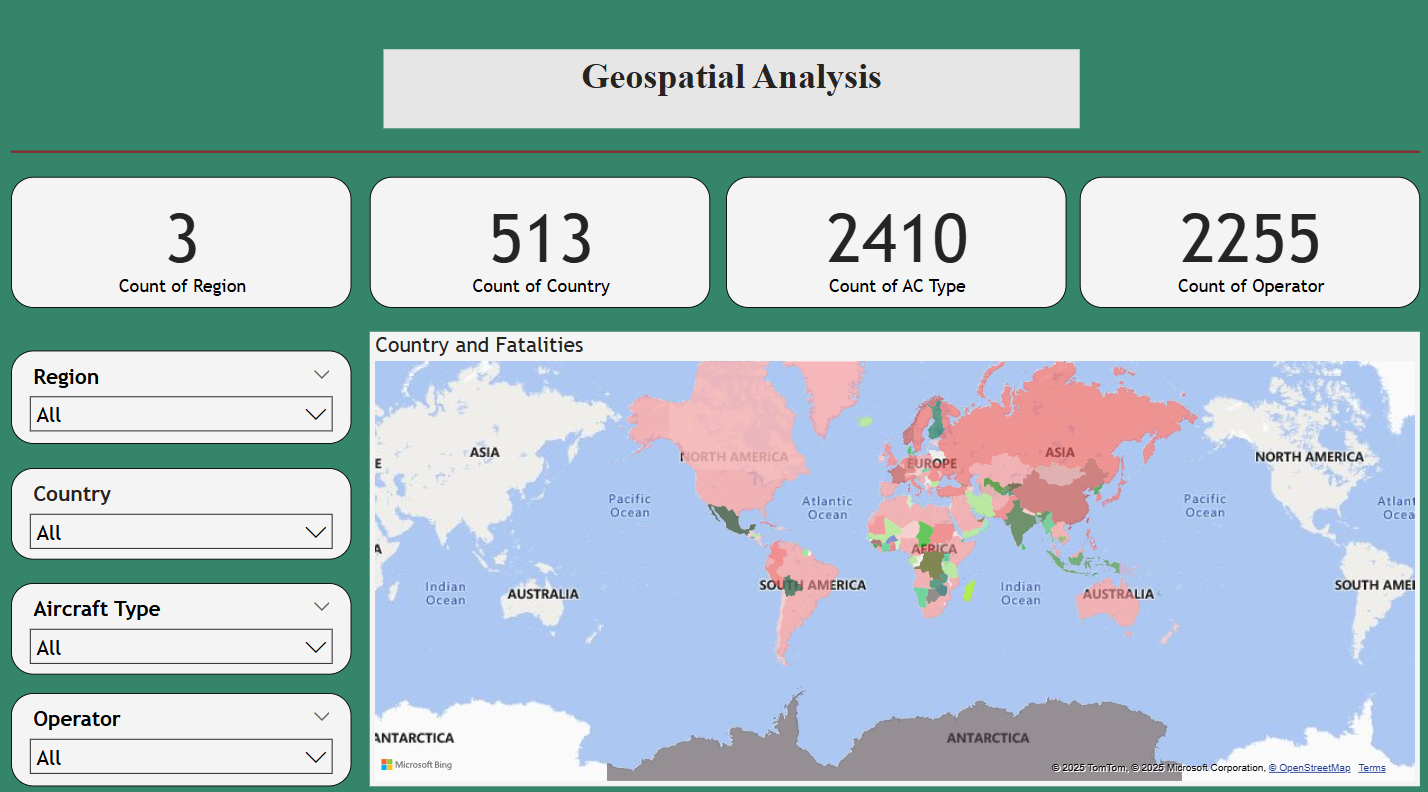

Layout of this report page (visuals, bound fields, positions):
{"tool":"powerbi","page":{"name":"Geospatial","canvas":[1280,720],"ordinal":1},"visuals":[{"type":"filledMap","fields":{"Category":["Sheet1.Country"],"Series":["Sheet1.Fatalities"]},"box":[333.3,301.7,935,405],"z":0},{"type":"slicer","fields":{"Values":["Sheet1.Operator"]},"box":[13.3,623.3,303.3,83.3],"z":1000},{"type":"slicer","fields":{"Values":["Sheet1.Country"]},"box":[13.3,423.3,303.3,81.7],"z":2000},{"type":"slicer","fields":{"Values":["Sheet1.Region"]},"box":[13.3,318.3,303.3,83.3],"z":3000},{"type":"slicer","fields":{"Values":["Sheet1.AC Type"]},"box":[13.3,525,303.3,81.7],"z":4000},{"type":"card","fields":{"Values":["Count(Sheet1.Region)"]},"box":[13.3,163.3,303.3,116.7],"z":5000},{"type":"card","fields":{"Values":["Count(Sheet1.Country)"]},"box":[333.3,163.3,303.3,116.7],"z":6000},{"type":"card","fields":{"Values":["Count(Sheet1.AC Type)"]},"box":[650,163.3,303.3,116.7],"z":7000},{"type":"card","fields":{"Values":["Count(Sheet1.Operator)"]},"box":[965,163.3,303.3,116.7],"z":8000},{"type":"shape","box":[13.3,135,1255,13.3],"z":9000},{"type":"textbox","box":[345,50,620,70],"z":10000}]}

Visuals, with their boxes in screenshot pixels (x1, y1, x2, y2), scaled from the page's 1280x720 canvas onto the 1428x792 screenshot:
filledMap - Sheet1.Country x Sheet1.Fatalities: (x1=372, y1=332, x2=1415, y2=777)
slicer - Sheet1.Operator: (x1=15, y1=686, x2=353, y2=777)
slicer - Sheet1.Country: (x1=15, y1=466, x2=353, y2=556)
slicer - Sheet1.Region: (x1=15, y1=350, x2=353, y2=442)
slicer - Sheet1.AC Type: (x1=15, y1=578, x2=353, y2=667)
card - Count(Sheet1.Region): (x1=15, y1=180, x2=353, y2=308)
card - Count(Sheet1.Country): (x1=372, y1=180, x2=710, y2=308)
card - Count(Sheet1.AC Type): (x1=725, y1=180, x2=1064, y2=308)
card - Count(Sheet1.Operator): (x1=1077, y1=180, x2=1415, y2=308)
shape: (x1=15, y1=148, x2=1415, y2=163)
textbox: (x1=385, y1=55, x2=1077, y2=132)
